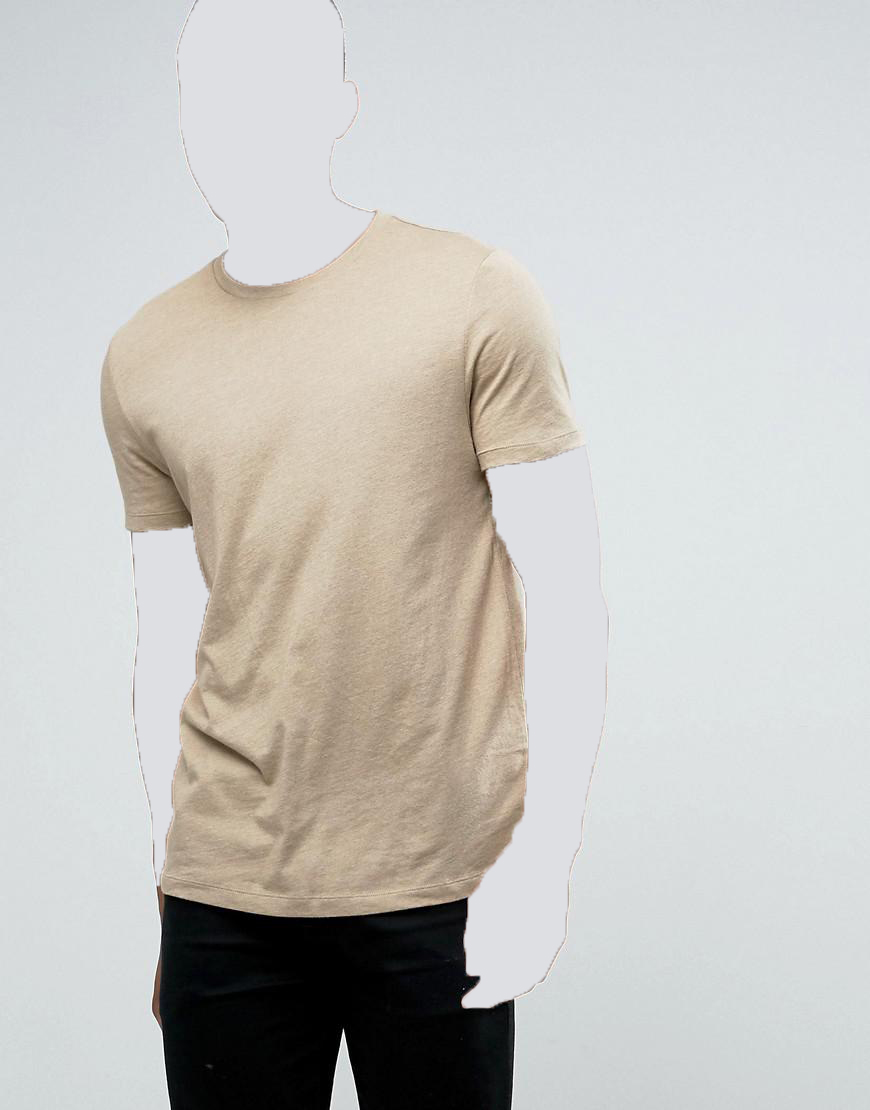teeshirt: (76, 213, 629, 917)
